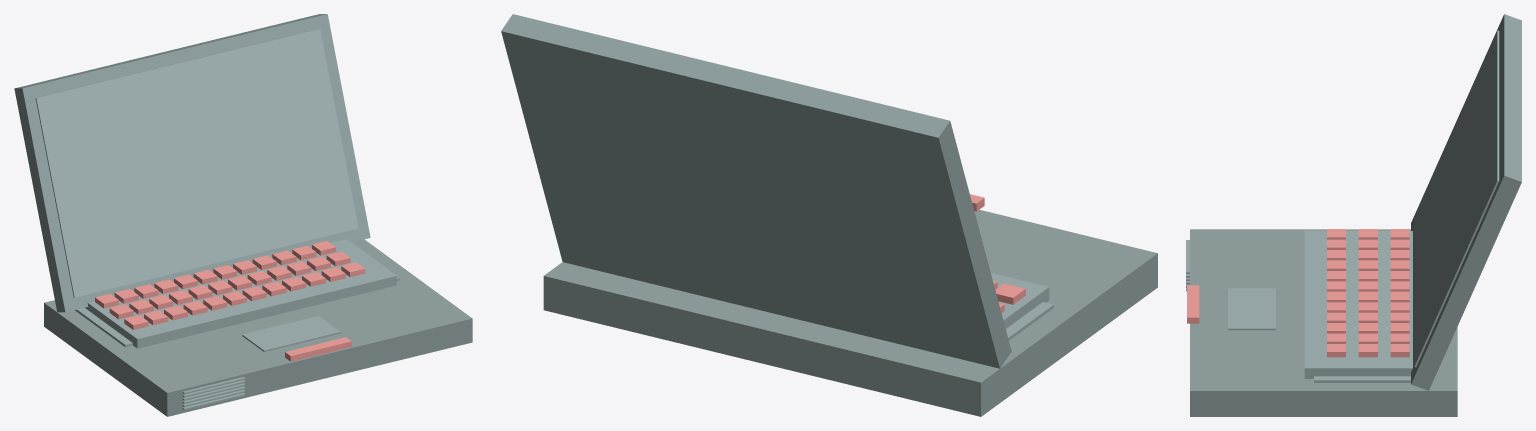
The model's file is laptopGaming.glb.
3 views of the same model, side by side, from view 1: azimuth 30°, elevation 25°; view 2: azimuth 150°, elevation 25°; view 3: azimuth 270°, elevation 25° (orthographic). The views are drawn at different scales.
Parts seen in each view (by area): view 1: anim:screen, laptopGaming; view 2: laptopGaming; view 3: laptopGaming, anim:screen.
Boxes of the visible parts, x1,y1,x2,y2 form: anim:screen: (35,28,358,297); laptopGaming: (14,14,472,416); laptopGaming: (501,14,1157,416); laptopGaming: (1186,14,1521,416); anim:screen: (1414,30,1499,367).
Bounding box in the file's own units: 0.2 × 0.1393 × 0.1757.
